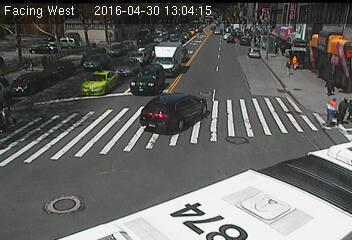neg: (262, 43, 275, 61), (104, 32, 115, 46), (5, 45, 15, 58), (49, 71, 58, 83), (157, 31, 165, 41)
pos: (322, 96, 343, 124), (335, 95, 351, 122), (283, 56, 298, 77)
